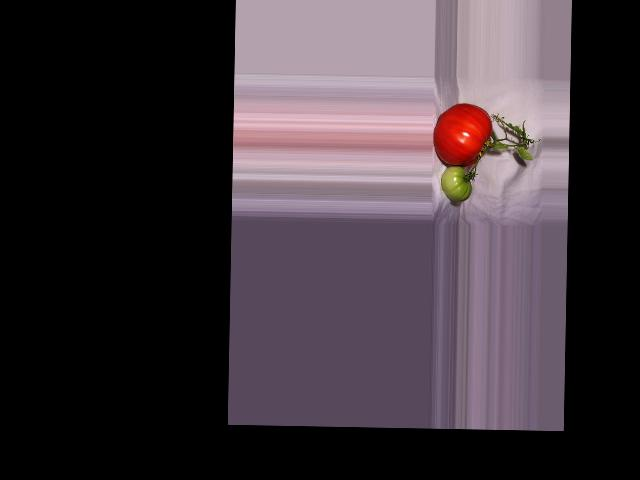tomato: (433, 102, 492, 167)
